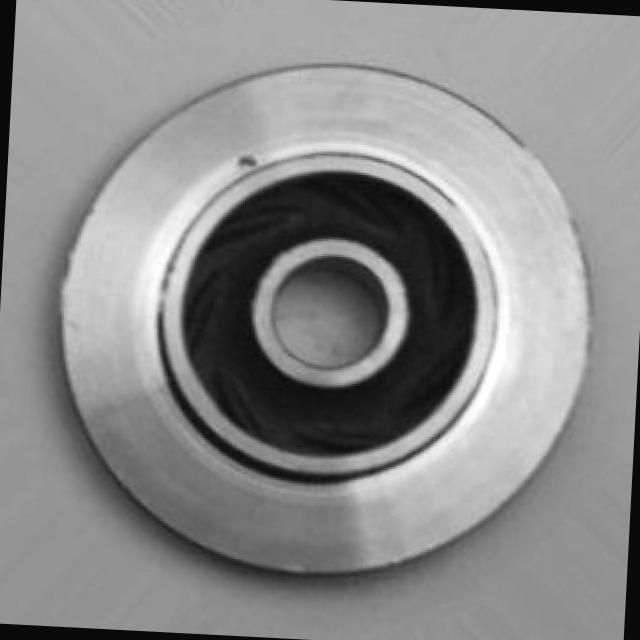Defect: (233, 146, 274, 174)
